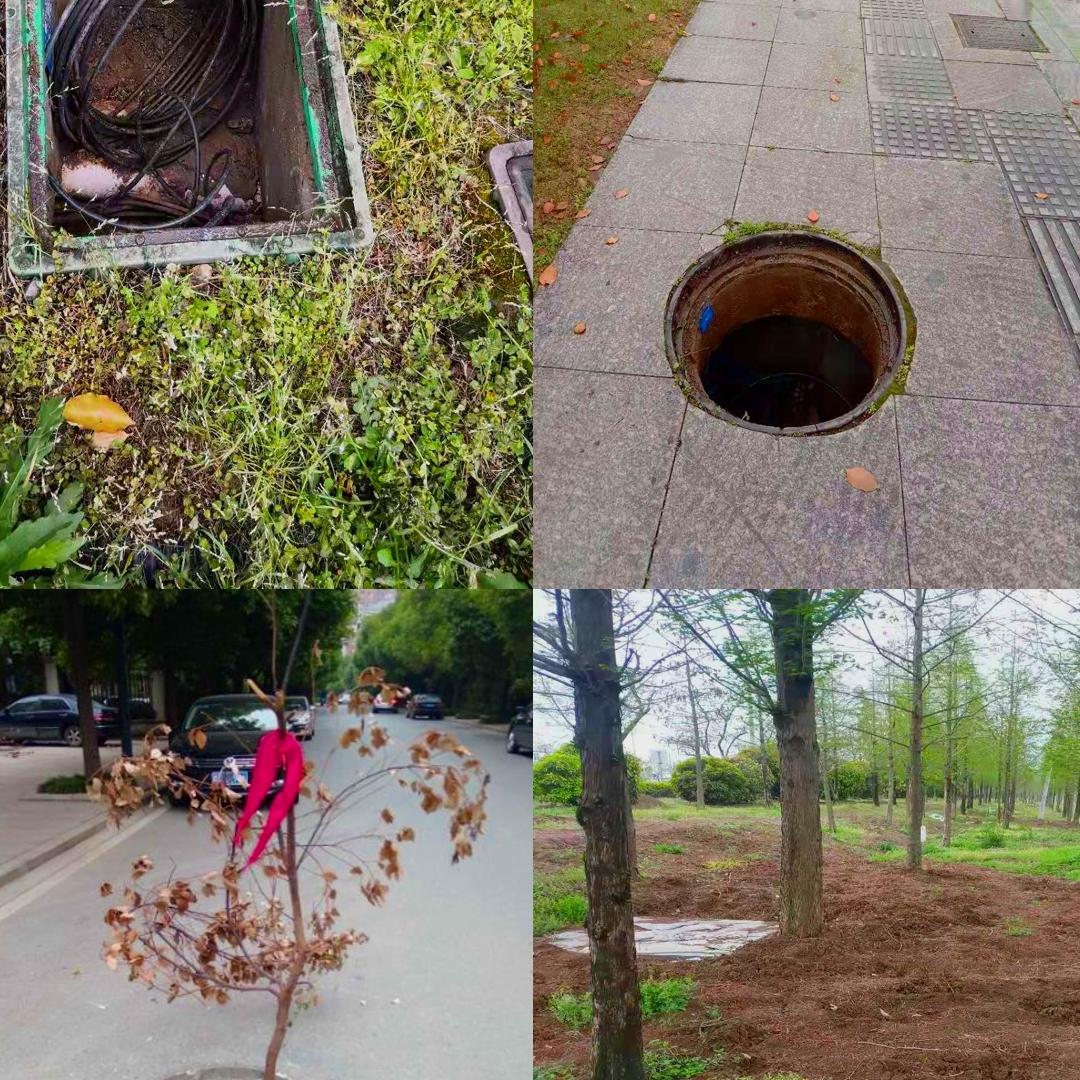good: (950, 14, 1047, 51)
lose: (0, 0, 375, 280), (665, 227, 908, 438), (111, 1067, 316, 1080)
